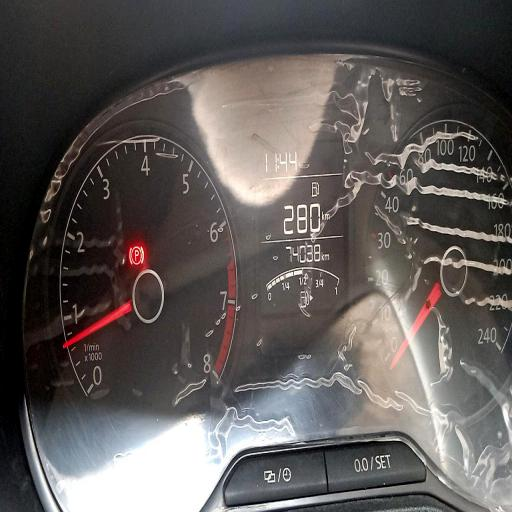tachometer: (58, 127, 244, 422)
